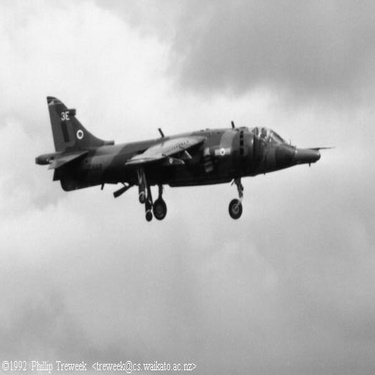airplane: (25, 83, 325, 230)
